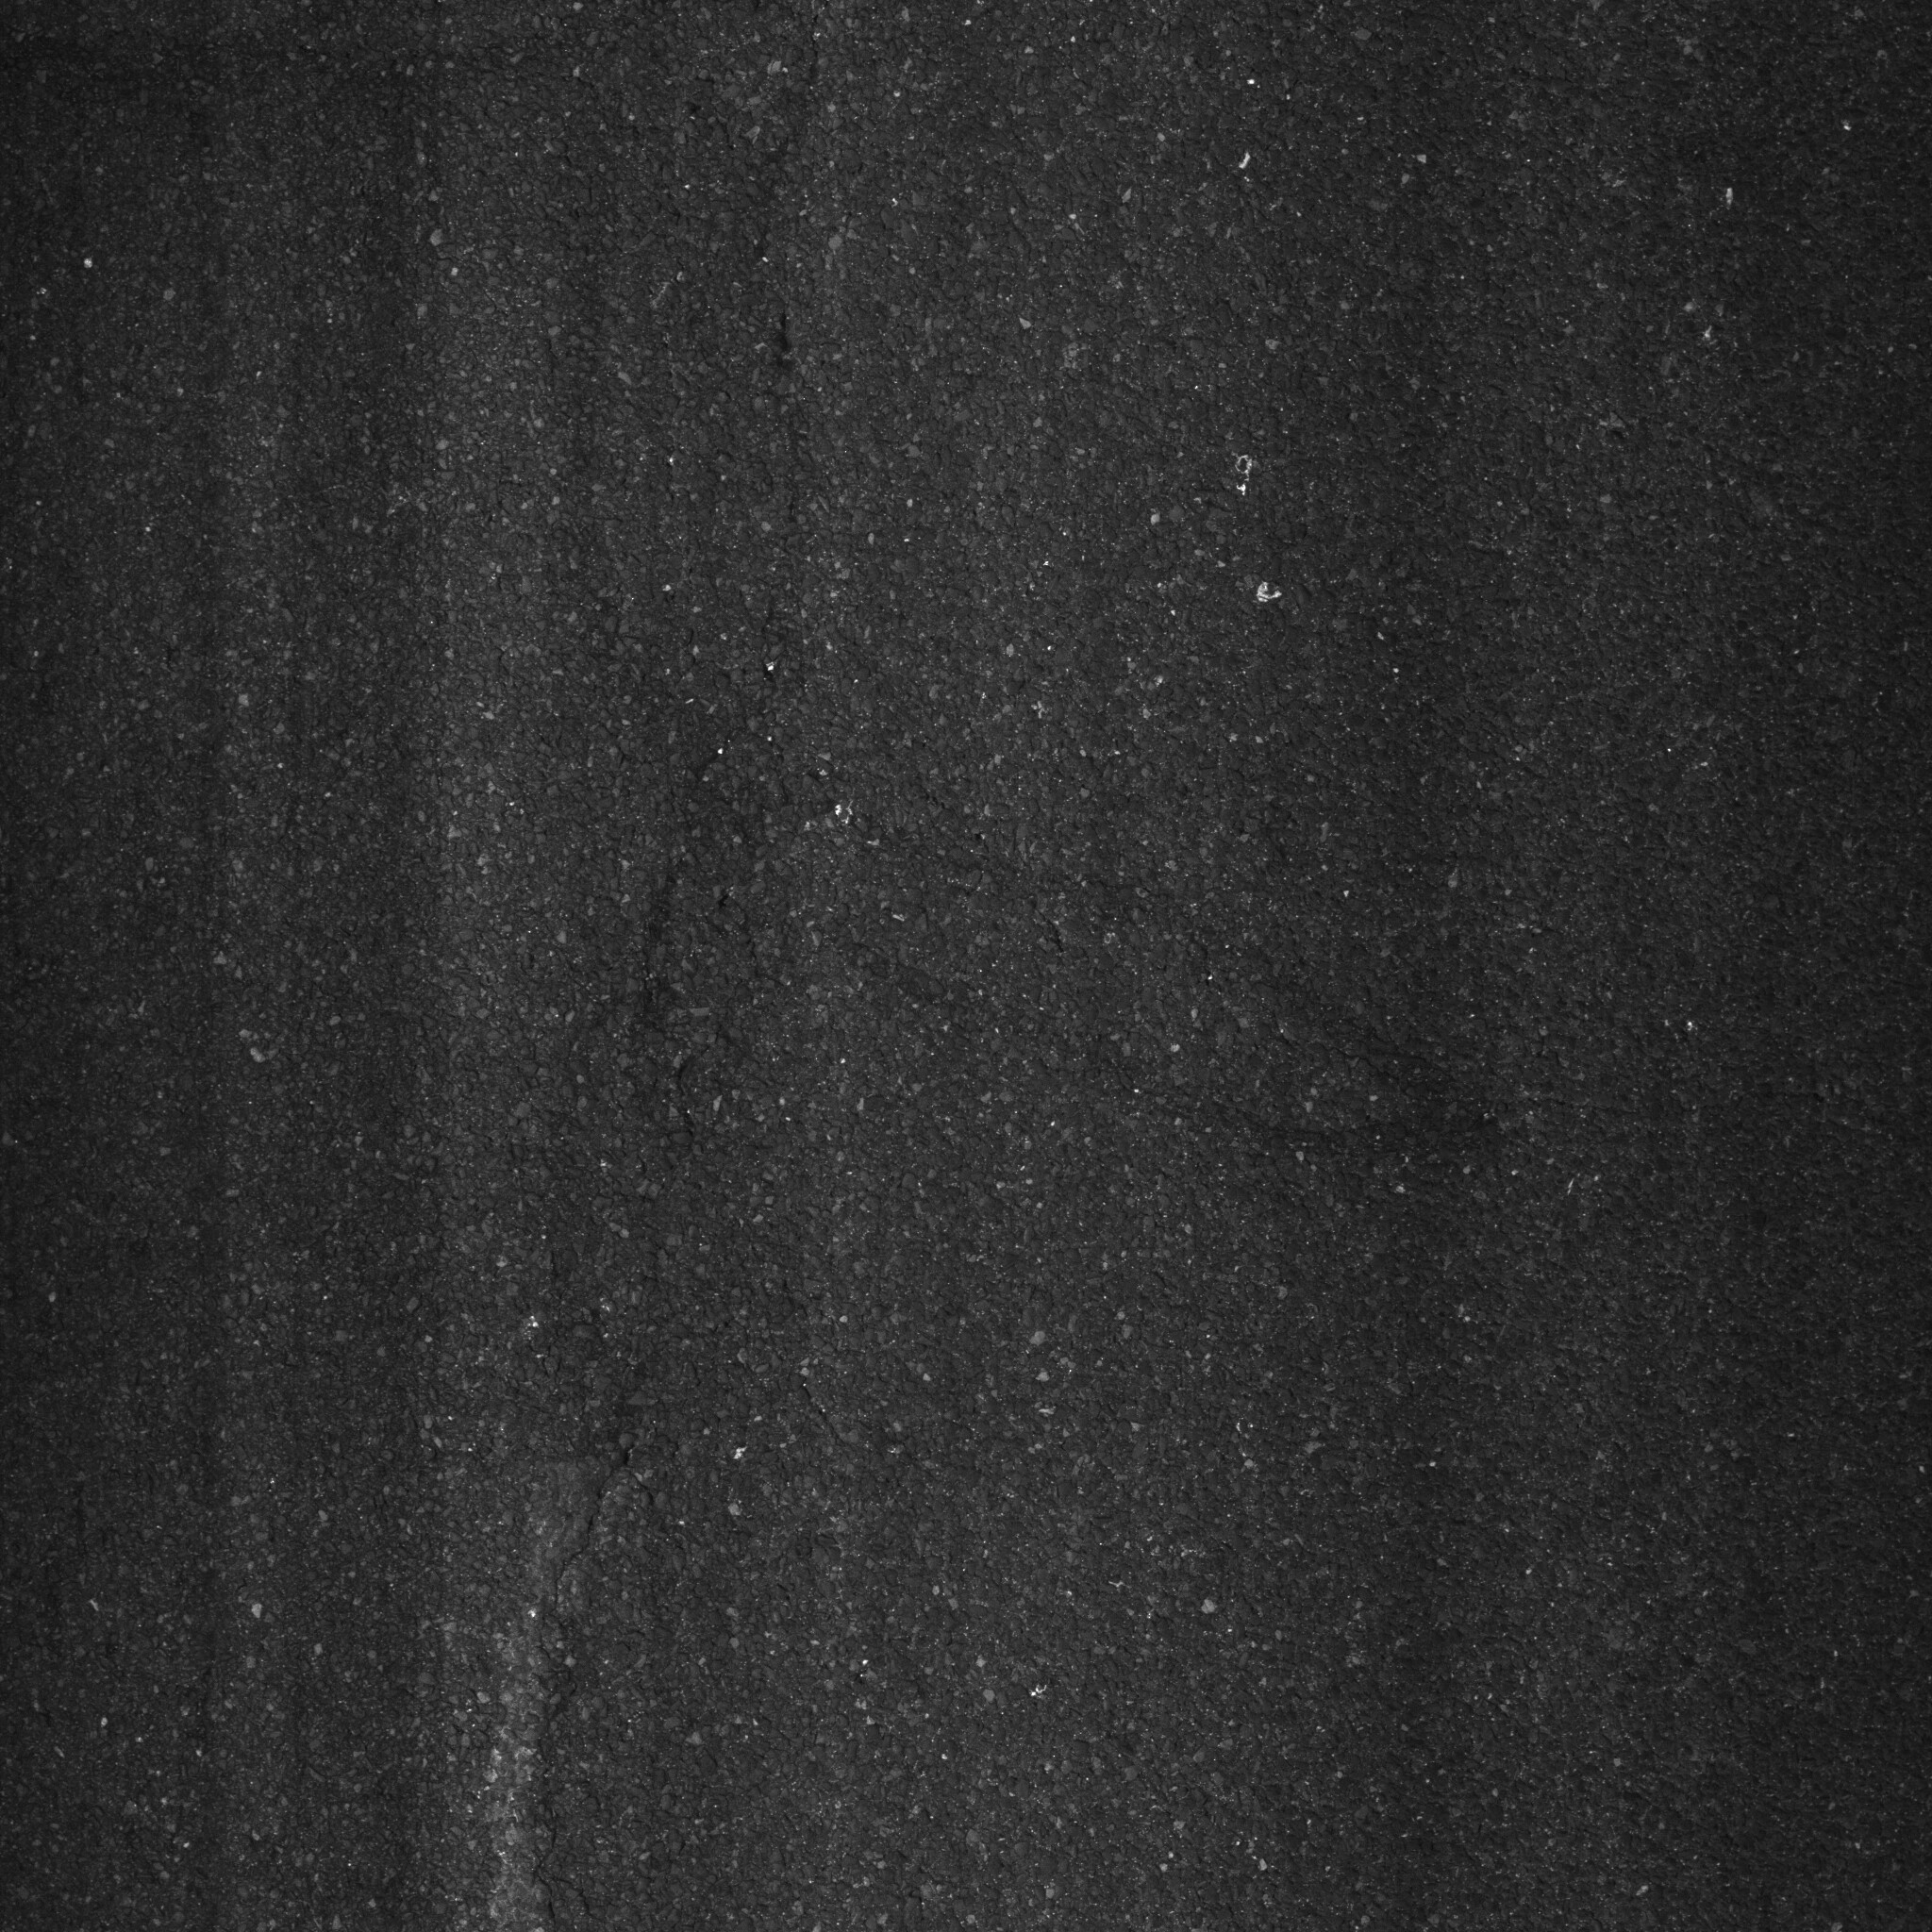longitudinal: (478, 678, 681, 1923)
